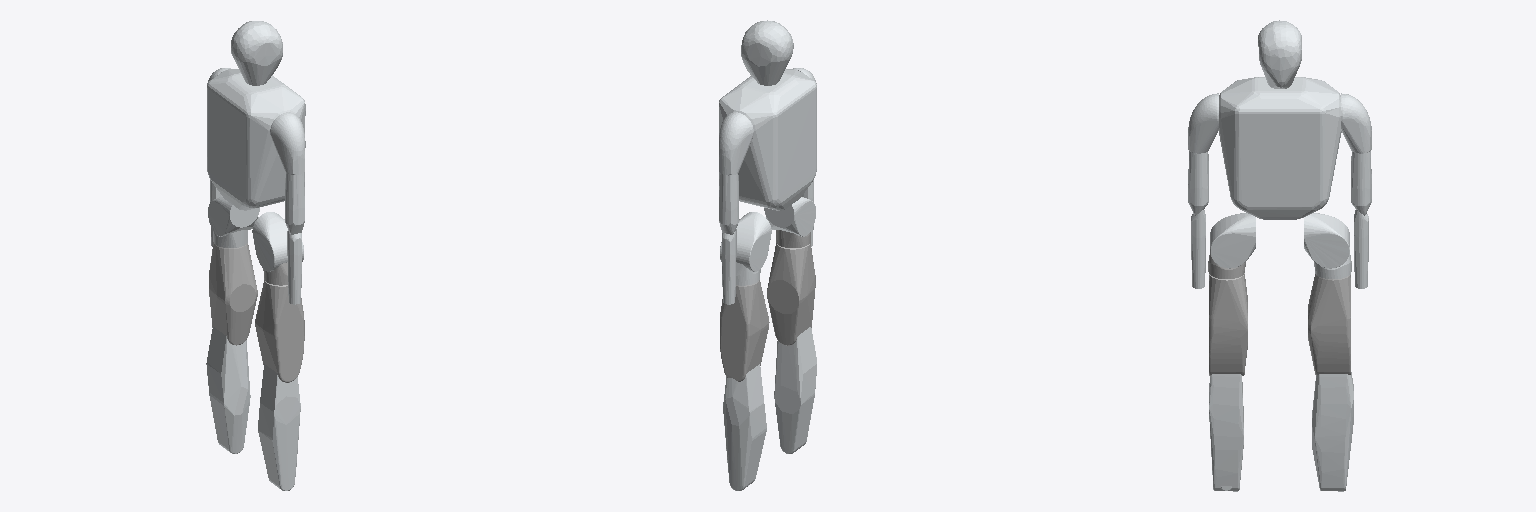
robot.urdf — hhfc_sf:
<?xml version="1.0" encoding="utf-8"?>
<robot
  name="hhfc_sf">
  <link
    name="base_thorax">
    <inertial>
      <origin
        xyz="0.0071545 -0.00014864 0.10711"
        rpy="0 0 0" />
      <mass
        value="20" />
      <inertia
        ixx="0.096973"
        ixy="-2.6251E-05"
        ixz="0.00041701"
        iyy="0.056865"
        iyz="2.8904E-05"
        izz="0.10587" />
    </inertial>
    <visual>
      <origin
        xyz="0 0 0"
        rpy="0 0 0" />
      <geometry>
        <mesh
          filename="../meshes/base_thorax.STL" />
      </geometry>
      <material
        name="">
        <color
          rgba="0.89804 0.91765 0.92941 1" />
      </material>
    </visual>
    <collision>
      <origin xyz="0 0 0.2" rpy="0 0 0"/>
      <geometry>
        <box size="0.4 0.35 0.6"/>
      </geometry>
    </collision>
  </link>
  <link
    name="Lleg_hip_p">
    <inertial>
      <origin
        xyz="-0.0065868 0.038281 -0.019058"
        rpy="0 0 0" />
      <mass
        value="0.8" />
      <inertia
        ixx="0.0016035"
        ixy="1.5686E-08"
        ixz="9.1356E-09"
        iyy="0.0015643"
        iyz="0.00011528"
        izz="0.0013847" />
    </inertial>
    <visual>
      <origin
        xyz="0 0 0"
        rpy="0 0 0" />
      <geometry>
        <mesh
          filename="../meshes/Lleg_hip_p.STL" />
      </geometry>
      <material
        name="">
        <color
          rgba="0.89804 0.91765 0.92941 1" />
      </material>
    </visual>
  </link>
  <joint
    name="Lleg_hip_p_joint"
    type="revolute">
    <origin
      xyz="0.0074413 0.070763 -0.096701"
      rpy="-2.9839E-05 0 -1.2361E-05" />
    <parent
      link="base_thorax" />
    <child
      link="Lleg_hip_p" />
    <axis
      xyz="0 -1 0" />
    <limit
      lower="-1.5708"
      upper="3.1416"
      effort="250"
      velocity="5000" />
  </joint>
  <link
    name="Lleg_hip_r">
    <inertial>
      <origin
        xyz="0.041051 0.0017918 -0.012588"
        rpy="0 0 0" />
      <mass
        value="2.4" />
      <inertia
        ixx="0.0024447"
        ixy="-1.2696E-05"
        ixz="8.244E-05"
        iyy="0.0016929"
        iyz="3.4648E-05"
        izz="0.0018226" />
    </inertial>
    <visual>
      <origin
        xyz="0 0 0"
        rpy="0 0 0" />
      <geometry>
        <mesh
          filename="../meshes/Lleg_hip_r.STL" />
      </geometry>
      <material
        name="">
        <color
          rgba="0.89804 0.91765 0.92941 1" />
      </material>
    </visual>
  </link>
  <joint
    name="Lleg_hip_r_joint"
    type="revolute">
    <origin
      xyz="-0.048264 0.063739 -0.039998"
      rpy="-2.9839E-05 -3.118E-05 1.2362E-05" />
    <parent
      link="Lleg_hip_p" />
    <child
      link="Lleg_hip_r" />
    <axis
      xyz="1 0 0" />
    <limit
      lower="-0.12217"
      upper="0.52359" 
      effort="100"
      velocity="5000" />
  </joint>
  <link
    name="Lleg_hip_y">
    <inertial>
      <origin
        xyz="0.0012764 -0.012311 -0.11618"
        rpy="0 0 0" />
      <mass
        value="4.7" />
      <inertia
        ixx="0.0060244"
        ixy="-1.1206E-05"
        ixz="0.00017115"
        iyy="0.0072895"
        iyz="-0.00032616"
        izz="0.0043397" />
    </inertial>
    <visual>
      <origin
        xyz="0 0 0"
        rpy="0 0 0" />
      <geometry>
        <mesh
          filename="../meshes/Lleg_hip_y.STL" />
      </geometry>
      <material
        name="">
        <color
          rgba="0.75294 0.75294 0.75294 1" />
      </material>
    </visual>
  </link>
  <joint
    name="Lleg_hip_y_joint"
    type="revolute">
    <origin
      xyz="0.048263 0.0075949 -0.073228"
      rpy="-0.0012842 0 0" />
    <parent
      link="Lleg_hip_r" />
    <child
      link="Lleg_hip_y" />
    <axis
      xyz="0 0 1" />
    <limit
      lower="-1.0472"
      upper="1.2217" 
      effort="100"
      velocity="5000" />
  </joint>
  <link
    name="Lleg_knee">
    <inertial>
      <origin
        xyz="-0.0071953 0.00012337 -0.15866"
        rpy="0 0 0" />
      <mass
        value="4.4" />
      <inertia
        ixx="0.015917"
        ixy="-5.6662E-06"
        ixz="-9.5855E-05"
        iyy="0.017102"
        iyz="-0.00022504"
        izz="0.0020767" />
    </inertial>
    <visual>
      <origin
        xyz="0 0 0"
        rpy="0 0 0" />
      <geometry>
        <mesh
          filename="../meshes/Lleg_knee.STL" />
      </geometry>
      <material
        name="">
        <color
          rgba="0.89804 0.91765 0.92941 1" />
      </material>
    </visual>
  </link>
  <joint
    name="Lleg_knee_joint"
    type="revolute">
    <origin
      xyz="0 0 -0.27926"
      rpy="0 0 0" />
    <parent
      link="Lleg_hip_y" />
    <child
      link="Lleg_knee" />
    <axis
      xyz="0 -1 0" />
    <limit
      lower="-1.5708"
      upper="0"
      effort="250"
      velocity="5000" />
  </joint>
  <link
    name="Lleg_ankle_p">
    <inertial>
      <origin
        xyz="0.0010341 -8.5615E-08 7.218E-08"
        rpy="0 0 0" />
      <mass
        value="0.24" />
      <inertia
        ixx="2.9623E-05"
        ixy="-2.687E-10"
        ixz="-5.7763E-10"
        iyy="2.6222E-05"
        iyz="8.9807E-10"
        izz="4.3137E-05" />
    </inertial>
    <visual>
      <origin
        xyz="0 0 0"
        rpy="0 0 0" />
      <geometry>
        <mesh
          filename="../meshes/Lleg_ankle_p.STL" />
      </geometry>
      <material
        name="">
        <color
          rgba="0.89804 0.91765 0.92941 1" />
      </material>
    </visual>
  </link>
  <joint
    name="Lleg_ankle_p_joint"
    type="revolute">
    <origin
      xyz="0 0 -0.35"
      rpy="0 0 0" />
    <parent
      link="Lleg_knee" />
    <child
      link="Lleg_ankle_p" />
    <axis
      xyz="0 1 0" />
    <limit
      lower="-0.6981317007977318"
      upper="0.6981317007977318"
      effort="100"
      velocity="5000" />
  </joint>
  <link
    name="Lleg_ankle_r">
    <inertial>
      <origin
        xyz="0.021653 2.4677E-08 -0.044273"
        rpy="0 0 0" />
      <mass
        value="0.88" />
      <inertia
        ixx="0.0012516"
        ixy="-1.099E-08"
        ixz="0.00011963"
        iyy="0.0029662"
        iyz="-3.6099E-10"
        izz="0.0039874" />
    </inertial>
    <visual>
      <origin
        xyz="0 0 0"
        rpy="0 0 0" />
      <geometry>
        <mesh
          filename="../meshes/whole_foot_visual.stl" />
      </geometry>
      <material
        name="">
        <color
          rgba="0.89804 0.91765 0.92941 1" />
      </material>
    </visual>
    <collision>
      <geometry>
        <mesh
          filename="../meshes/base_back.stl" />
      </geometry>
    </collision>
    <collision>
      <geometry>
        <mesh
          filename="../meshes/base_front.stl" />
      </geometry>
    </collision>
    <collision>
      <geometry>
        <mesh
          filename="../meshes/bottom_back.stl" />
      </geometry>
    </collision>
    <collision>
      <geometry>
        <mesh
          filename="../meshes/bottom_front.stl" />
      </geometry>
    </collision>
  </link>
  <joint
    name="Lleg_ankle_r_joint"
    type="revolute">
    <origin
      xyz="0 0 0"
      rpy="0 0 0" />
    <parent
      link="Lleg_ankle_p" />
    <child
      link="Lleg_ankle_r" />
    <axis
      xyz="1 0 0" />
    <limit
      lower="-0.3490658503988659"
      upper="0.3490658503988659"
      effort="100"
      velocity="5000" />
  </joint>
  <link
    name="Rleg_hip_p">
    <inertial>
      <origin
        xyz="-0.0065825 -0.038282 -0.019058"
        rpy="0 0 0" />
      <mass
        value="0.8" />
      <inertia
        ixx="0.0016035"
        ixy="-1.5667E-08"
        ixz="-9.2038E-09"
        iyy="0.0015643"
        iyz="-0.00011529"
        izz="0.0013847" />
    </inertial>
    <visual>
      <origin
        xyz="0 0 0"
        rpy="0 0 0" />
      <geometry>
        <mesh
          filename="../meshes/Rleg_hip_p.STL" />
      </geometry>
      <material
        name="">
        <color
          rgba="0.89804 0.91765 0.92941 1" />
      </material>
    </visual>
  </link>
  <joint
    name="Rleg_hip_p_joint"
    type="revolute">
    <origin
      xyz="0.0074402 -0.070762 -0.096701"
      rpy="2.9839E-05 0 -1.2361E-05" />
    <parent
      link="base_thorax" />
    <child
      link="Rleg_hip_p" />
    <axis
      xyz="0 -1 0" />
    <limit
      lower="-1.5708"
      upper="3.1416"
      effort="250"
      velocity="5000" />
  </joint>
  <link
    name="Rleg_hip_r">
    <inertial>
      <origin
        xyz="0.040804 -0.0018825 -0.012645"
        rpy="0 0 0" />
      <mass
        value="2.4" />
      <inertia
        ixx="0.0024443"
        ixy="1.499E-05"
        ixz="8.1453E-05"
        iyy="0.0016917"
        iyz="-3.5389E-05"
        izz="0.0018218" />
    </inertial>
    <visual>
      <origin
        xyz="0 0 0"
        rpy="0 0 0" />
      <geometry>
        <mesh
          filename="../meshes/Rleg_hip_r.STL" />
      </geometry>
      <material
        name="">
        <color
          rgba="0.75294 0.75294 0.75294 1" />
      </material>
    </visual>
  </link>
  <joint
    name="Rleg_hip_r_joint"
    type="revolute">
    <origin
      xyz="-0.048261 -0.063738 -0.039998"
      rpy="-2.9839E-05 -3.118E-05 1.2362E-05" />
    <parent
      link="Rleg_hip_p" />
    <child
      link="Rleg_hip_r" />
    <axis
      xyz="1 0 0" />
    <limit
      lower="-0.52359"
      upper="0.12217" 
      effort="100"
      velocity="5000" />
  </joint>
  <link
    name="Rleg_hip_y">
    <inertial>
      <origin
        xyz="0.0012764 0.012311 -0.11618"
        rpy="0 0 0" />
      <mass
        value="4.7" />
      <inertia
        ixx="0.0059932"
        ixy="1.1193E-05"
        ixz="0.00017278"
        iyy="0.0072308"
        iyz="0.000326"
        izz="0.0043094" />
    </inertial>
    <visual>
      <origin
        xyz="0 0 0"
        rpy="0 0 0" />
      <geometry>
        <mesh
          filename="../meshes/Rleg_hip_y.STL" />
      </geometry>
      <material
        name="">
        <color
          rgba="0.75294 0.75294 0.75294 1" />
      </material>
    </visual>
  </link>
  <joint
    name="Rleg_hip_y_joint"
    type="revolute">
    <origin
      xyz="0.048263 -0.0075949 -0.073228"
      rpy="-0.0012842 3.118E-05 0" />
    <parent
      link="Rleg_hip_r" />
    <child
      link="Rleg_hip_y" />
    <axis
      xyz="0 0 1" />
    <limit
      lower="-1.2217"
      upper="1.0472"
      effort="100"
      velocity="5000" />
  </joint>
  <link
    name="Rleg_knee">
    <inertial>
      <origin
        xyz="-0.0071953 -0.00012337 -0.15866"
        rpy="0 0 0" />
      <mass
        value="4.4" />
      <inertia
        ixx="0.015917"
        ixy="6.1742E-06"
        ixz="-9.365E-05"
        iyy="0.017101"
        iyz="0.0002262"
        izz="0.002076" />
    </inertial>
    <visual>
      <origin
        xyz="0 0 0"
        rpy="0 0 0" />
      <geometry>
        <mesh
          filename="../meshes/Rleg_knee.STL" />
      </geometry>
      <material
        name="">
        <color
          rgba="0.89804 0.91765 0.92941 1" />
      </material>
    </visual>
  </link>
  <joint
    name="Rleg_knee_joint"
    type="revolute">
    <origin
      xyz="0 0 -0.27926"
      rpy="0 0 0" />
    <parent
      link="Rleg_hip_y" />
    <child
      link="Rleg_knee" />
    <axis
      xyz="0 -1 0" />
    <limit
      lower="-1.5708"
      upper="0"
      effort="250"
      velocity="5000" />
  </joint>
  <link
    name="Rleg_ankle_p">
    <inertial>
      <origin
        xyz="0.0010341 8.5615E-08 7.218E-08"
        rpy="0 0 0" />
      <mass
        value="0.24" />
      <inertia
        ixx="2.9623E-05"
        ixy="-2.687E-10"
        ixz="5.7763E-10"
        iyy="2.6222E-05"
        iyz="-8.9807E-10"
        izz="4.3137E-05" />
    </inertial>
    <visual>
      <origin
        xyz="0 0 0"
        rpy="0 0 0" />
      <geometry>
        <mesh
          filename="../meshes/Rleg_ankle_p.STL" />
      </geometry>
      <material
        name="">
        <color
          rgba="0.89804 0.91765 0.92941 1" />
      </material>
    </visual>
  </link>
  <joint
    name="Rleg_ankle_p_joint"
    type="revolute">
    <origin
      xyz="0 0 -0.35"
      rpy="0 0 0" />
    <parent
      link="Rleg_knee" />
    <child
      link="Rleg_ankle_p" />
    <axis
      xyz="0 1 0" />
    <limit
      lower="-0.6981317007977318"
      upper="0.6981317007977318"
      effort="100"
      velocity="5000" />
  </joint>
  <link
    name="Rleg_ankle_r">
    <inertial>
      <origin
        xyz="0.021653 -2.4677E-08 -0.044273"
        rpy="0 0 0" />
      <mass
        value="0.88" />
      <inertia
        ixx="0.0012516"
        ixy="-1.0994E-08"
        ixz="0.00011963"
        iyy="0.0029662"
        iyz="-3.5856E-10"
        izz="0.0039874" />
    </inertial>
    <visual>
      <origin
        xyz="0 0 0"
        rpy="0 0 0" />
      <geometry>
        <mesh
          filename="../meshes/whole_foot_visual.stl" />
      </geometry>
      <material
        name="">
        <color
          rgba="0.89804 0.91765 0.92941 1" />
      </material>
    </visual>
    <collision>
      <geometry>
        <mesh
          filename="../meshes/base_back.stl" />
      </geometry>
    </collision>
    <collision>
      <geometry>
        <mesh
          filename="../meshes/base_front.stl" />
      </geometry>
    </collision>
    <collision>
      <geometry>
        <mesh
          filename="../meshes/bottom_back.stl" />
      </geometry>
    </collision>
    <collision>
      <geometry>
        <mesh
          filename="../meshes/bottom_front.stl" />
      </geometry>
    </collision>
  </link>
  <joint
    name="Rleg_ankle_r_joint"
    type="revolute">
    <origin
      xyz="0 0 0"
      rpy="0 0 0" />
    <parent
      link="Rleg_ankle_p" />
    <child
      link="Rleg_ankle_r" />
    <axis
      xyz="1 0 0" />
    <limit
      lower="-0.3490658503988659"
      upper="0.3490658503988659"
      effort="100"
      velocity="5000" />
  </joint>
  <link
    name="Larm_shoulder_p">
    <inertial>
      <origin
        xyz="-4.1326E-06 0.029486 -0.15771"
        rpy="0 0 0" />
      <mass
        value="0.9" />
      <inertia
        ixx="0.001659"
        ixy="-4.75E-09"
        ixz="2.8129E-09"
        iyy="0.0017524"
        iyz="0.00017891"
        izz="0.00054732" />
    </inertial>
    <visual>
      <origin
        xyz="0 0 0"
        rpy="0 0 0" />
      <geometry>
        <mesh
          filename="../meshes/Larm_shoulder_p.STL" />
      </geometry>
      <material
        name="">
        <color
          rgba="0.89804 0.91765 0.92941 1" />
      </material>
    </visual>
  </link>
  <joint
    name="Larm_shoulder_p_joint"
    type="fixed">
    <origin
      xyz="0.0074411 0.17676 0.2503"
      rpy="-3.118E-05 0 0" />
    <parent
      link="base_thorax" />
    <child
      link="Larm_shoulder_p" />
    <axis
      xyz="0 -1 0" />
    <limit
      lower="-3.1416"
      upper="3.1416"
      effort="100"
      velocity="5000" />
  </joint>
  <link
    name="Rarm_shoulder_p">
    <inertial>
      <origin
        xyz="0.00015217 -0.029574 -0.15842"
        rpy="0 0 0" />
      <mass
        value="0.9" />
      <inertia
        ixx="0.0016592"
        ixy="1.6228E-07"
        ixz="1.033E-06"
        iyy="0.0017528"
        iyz="-0.00017891"
        izz="0.00054756" />
    </inertial>
    <visual>
      <origin
        xyz="0 0 0"
        rpy="0 0 0" />
      <geometry>
        <mesh
          filename="../meshes/Rarm_shoulder_p.STL" />
      </geometry>
      <material
        name="">
        <color
          rgba="0.89804 0.91765 0.92941 1" />
      </material>
    </visual>
  </link>
  <joint
    name="Rarm_shoulder_p_joint"
    type="fixed">
    <origin
      xyz="0.0074404 -0.17676 0.2503"
      rpy="3.1181E-05 0.0016214 0" />
    <parent
      link="base_thorax" />
    <child
      link="Rarm_shoulder_p" />
    <axis
      xyz="0 -1 0" />
    <limit
      lower="-3.1416"
      upper="3.1416"
      effort="100"
      velocity="5000" />
  </joint>
</robot>

--- What the picture shows (computed from the rendered views, not written in the file) ---
The picture shows the robot from 3 angles, left to right: view 1: azimuth 30°, elevation 25°; view 2: azimuth 150°, elevation 25°; view 3: azimuth 270°, elevation 25°; orthographic projection.
Model hhfc_sf with 15 links and 14 joints (12 revolute, 2 fixed), rooted at base_thorax, posed every joint at zero.
Links seen in each view (by area): view 1: base_thorax, Lleg_knee, Rleg_knee, Lleg_hip_y, Rarm_shoulder_p, Rleg_hip_y, Rleg_hip_p, Lleg_hip_p; view 2: base_thorax, Lleg_knee, Rleg_knee, Rleg_hip_y, Larm_shoulder_p, Lleg_hip_y, Lleg_hip_p, Rleg_hip_p; view 3: base_thorax, Lleg_knee, Lleg_hip_y, Rleg_knee, Larm_shoulder_p, Rarm_shoulder_p, Rleg_hip_y, Rleg_hip_p, Lleg_hip_p.
Link boxes in pixels (x1=…): base_thorax: x1=207, y1=21, x2=305, y2=210; Lleg_knee: x1=206, y1=327, x2=250, y2=453; Rleg_knee: x1=258, y1=364, x2=300, y2=490; Lleg_hip_y: x1=209, y1=242, x2=257, y2=345; Rarm_shoulder_p: x1=270, y1=112, x2=305, y2=304; Rleg_hip_y: x1=255, y1=280, x2=304, y2=382; Rleg_hip_p: x1=252, y1=212, x2=303, y2=271; Lleg_hip_p: x1=208, y1=197, x2=259, y2=236; base_thorax: x1=719, y1=20, x2=816, y2=210; Lleg_knee: x1=723, y1=364, x2=766, y2=490; Rleg_knee: x1=774, y1=327, x2=816, y2=453; Rleg_hip_y: x1=767, y1=243, x2=815, y2=345; Larm_shoulder_p: x1=719, y1=112, x2=753, y2=304; Lleg_hip_y: x1=720, y1=280, x2=769, y2=381; Lleg_hip_p: x1=720, y1=212, x2=771, y2=271; Rleg_hip_p: x1=764, y1=197, x2=815, y2=236; base_thorax: x1=1218, y1=20, x2=1341, y2=219; Lleg_knee: x1=1312, y1=372, x2=1353, y2=491; Lleg_hip_y: x1=1308, y1=274, x2=1350, y2=375; Rleg_knee: x1=1209, y1=374, x2=1243, y2=491; Larm_shoulder_p: x1=1341, y1=93, x2=1371, y2=288; Rarm_shoulder_p: x1=1188, y1=93, x2=1218, y2=288; Rleg_hip_y: x1=1209, y1=273, x2=1247, y2=375; Rleg_hip_p: x1=1210, y1=213, x2=1255, y2=268; Lleg_hip_p: x1=1304, y1=213, x2=1349, y2=268.
Bounding box of the posed robot: 0.1898 × 0.4898 × 1.37 m (x, y, z).
Meshes: 14 distinct files referenced, 13 mesh visuals loaded (13 binary STL); not drawn: 2 (reference not matched to a file when rendering).